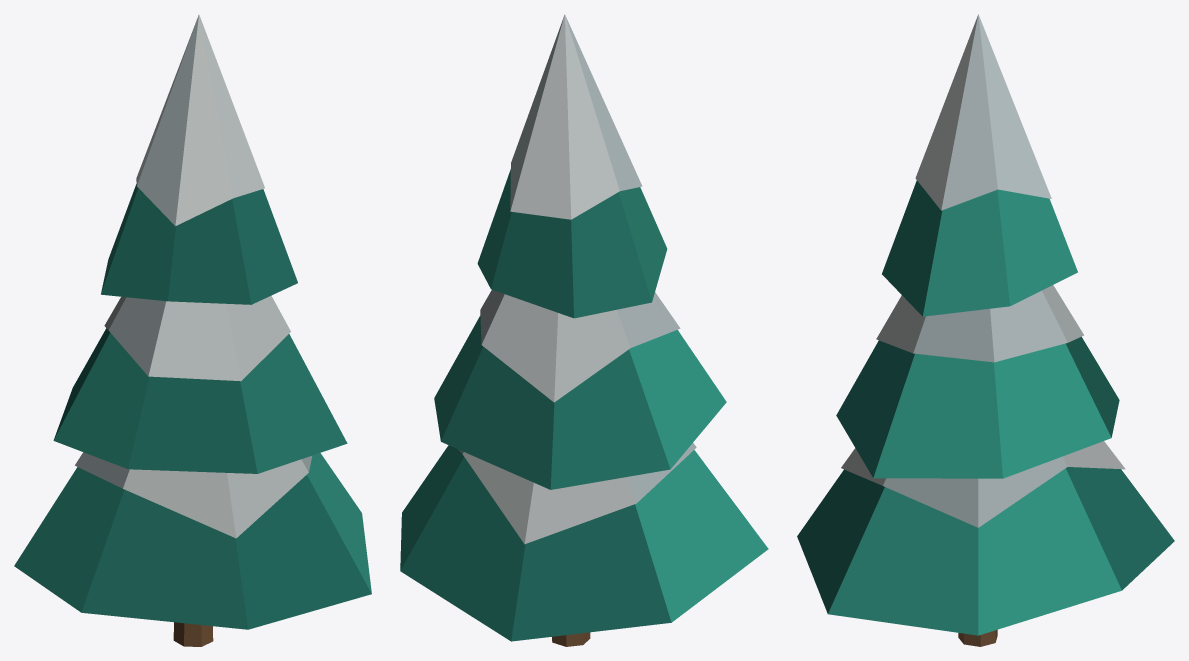
The model's file is fir-a.glb.
3 views of the same model, side by side, from view 1: azimuth 30°, elevation 25°; view 2: azimuth 150°, elevation 25°; view 3: azimuth 270°, elevation 25° (orthographic).
Visible parts, largest first — view 1: foliage, trunk; view 2: foliage; view 3: foliage.
Boxes of the visible parts, x1,y1,x2,y2 form: foliage: (14, 14, 371, 629); trunk: (173, 622, 213, 646); foliage: (400, 14, 768, 641); foliage: (797, 14, 1174, 635).
Bounding box in the file's own units: 2.4 × 4.41 × 2.41.
